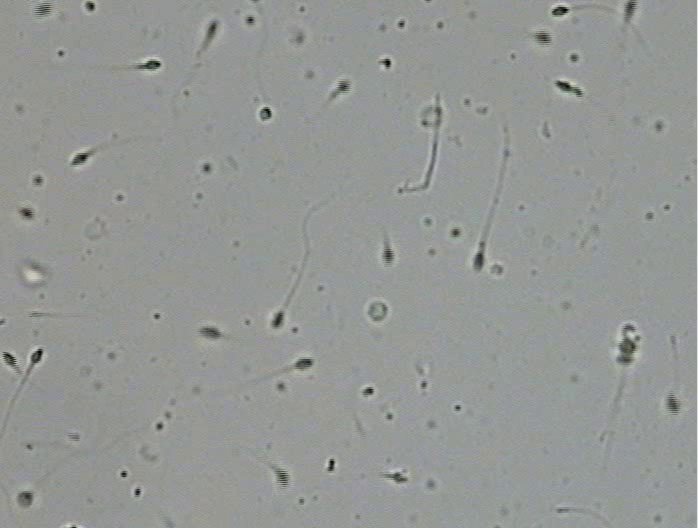Impurity: (367, 301, 389, 322)
S: (616, 338, 637, 366), (666, 393, 680, 415), (34, 1, 53, 17), (274, 468, 289, 488), (534, 30, 552, 46), (199, 326, 221, 339), (17, 491, 34, 507), (623, 1, 637, 20), (2, 351, 17, 368), (70, 153, 89, 166), (295, 357, 314, 370), (382, 248, 395, 266), (336, 79, 351, 94), (271, 311, 284, 328), (473, 252, 484, 272), (555, 80, 573, 92), (30, 348, 43, 364), (143, 59, 161, 70), (259, 106, 272, 121), (19, 207, 34, 220), (551, 6, 570, 16), (207, 21, 217, 39), (392, 472, 407, 482), (84, 1, 96, 11)
